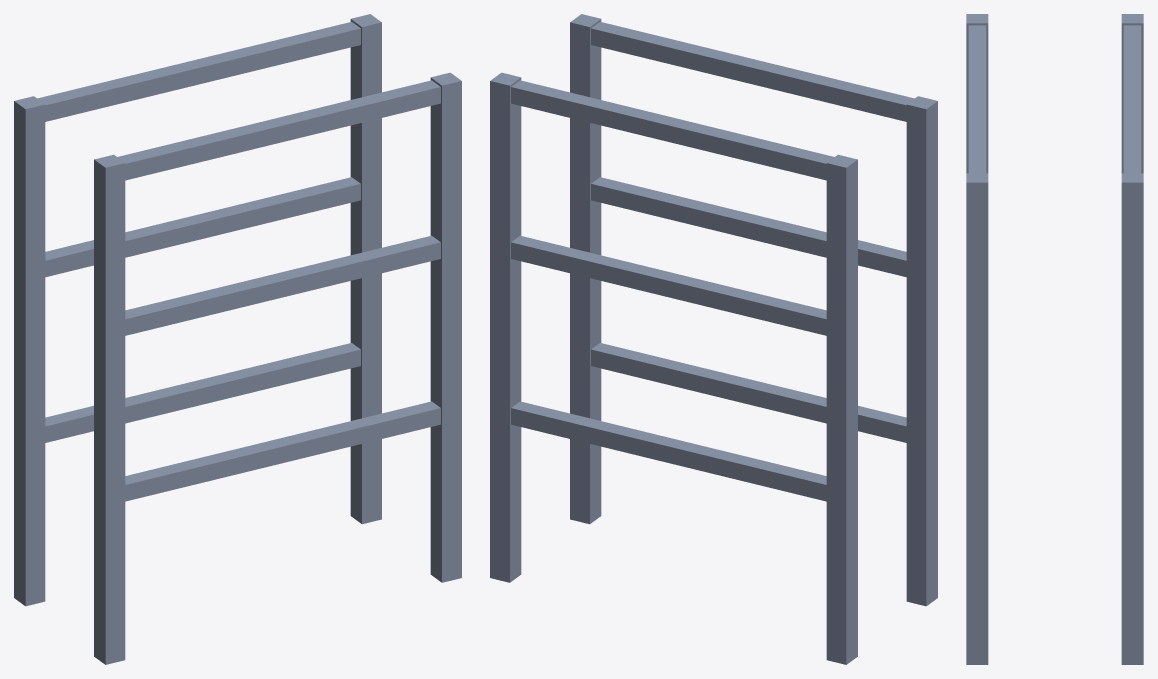
File: RackBay.fbx
3 renders of one model, left to right at view 1: azimuth 30°, elevation 25°; view 2: azimuth 150°, elevation 25°; view 3: azimuth 270°, elevation 25°, orthographic. The views are drawn at different scales.
Parts seen in each view (by area): view 1: Upright_-0.85_-0.35, Upright_-0.85_0.35, Upright_0.85_-0.35, Upright_0.85_0.35, BeamB_2.35, BeamF_2.35, BeamF_1.6, BeamF_0.8, BeamB_1.6, BeamB_0.8; view 2: Upright_-0.85_-0.35, Upright_-0.85_0.35, Upright_0.85_0.35, Upright_0.85_-0.35, BeamB_2.35, BeamB_1.6, BeamB_0.8, BeamF_2.35, BeamF_0.8, BeamF_1.6; view 3: Upright_0.85_-0.35, Upright_0.85_0.35, BeamB_2.35, BeamF_2.35, Upright_-0.85_-0.35, Upright_-0.85_0.35, BeamB_0.8, BeamF_0.8, BeamF_1.6, BeamB_1.6.
Part boxes in pixels (box(x1,y1,x2,y2)): Upright_-0.85_-0.35: box(94, 154, 125, 664); Upright_-0.85_0.35: box(14, 96, 45, 606); Upright_0.85_-0.35: box(430, 72, 461, 582); Upright_0.85_0.35: box(350, 14, 381, 524); BeamB_2.35: box(15, 21, 360, 126); BeamF_2.35: box(95, 80, 440, 184); BeamF_1.6: box(95, 235, 440, 339); BeamF_0.8: box(95, 401, 440, 501); BeamB_1.6: box(16, 177, 360, 277); BeamB_0.8: box(45, 343, 360, 442); Upright_-0.85_-0.35: box(906, 96, 937, 606); Upright_-0.85_0.35: box(826, 154, 857, 664); Upright_0.85_0.35: box(490, 72, 521, 582); Upright_0.85_-0.35: box(570, 14, 601, 524); BeamB_2.35: box(511, 80, 856, 184); BeamB_1.6: box(511, 235, 856, 340); BeamB_0.8: box(511, 401, 854, 505); BeamF_2.35: box(591, 21, 936, 121); BeamF_0.8: box(591, 343, 906, 442); BeamF_1.6: box(591, 177, 906, 277); Upright_0.85_-0.35: box(966, 173, 988, 664); Upright_0.85_0.35: box(1121, 173, 1143, 664); BeamB_2.35: box(1123, 25, 1141, 200); BeamF_2.35: box(968, 25, 986, 200); Upright_-0.85_-0.35: box(966, 14, 988, 173); Upright_-0.85_0.35: box(1121, 14, 1143, 173); BeamB_0.8: box(1123, 496, 1141, 512); BeamF_0.8: box(968, 496, 986, 512); BeamF_1.6: box(968, 335, 986, 351); BeamB_1.6: box(1123, 335, 1141, 351).
Size of the model in its own units: 180 by 240 by 80.
